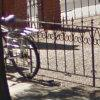Bicycle: (0, 11, 40, 87)
